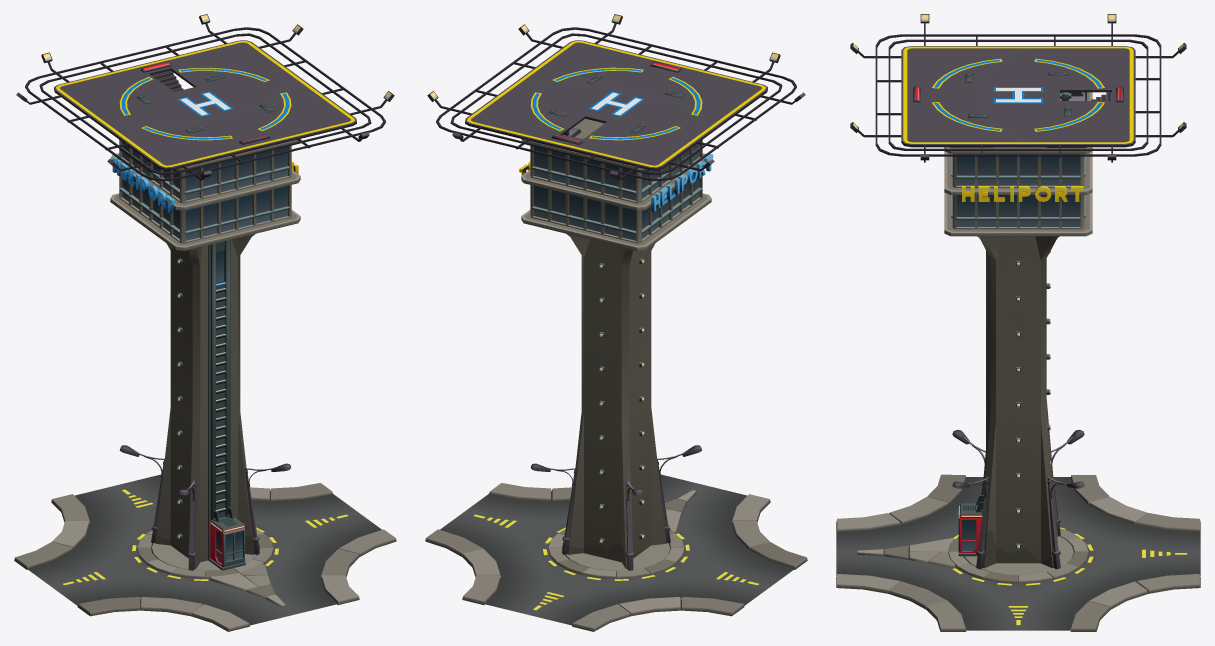
The model's file is Concrete_Tower_2A.fbx.
The picture shows the model from 3 angles, left to right: view 1: azimuth 30°, elevation 25°; view 2: azimuth 150°, elevation 25°; view 3: azimuth 270°, elevation 25°; orthographic projection. The views are drawn at different scales.
Visible parts, largest first — view 1: Concrete_Tower_2A, Concrete_Tower_2A_Elevator, Concrete_Tower_2A_Text; view 2: Concrete_Tower_2A, Concrete_Tower_2A_Text; view 3: Concrete_Tower_2A, Concrete_Tower_2A_Elevator, Concrete_Tower_2A_Text.
Part boxes in pixels (x1,y1,x2,y2): Concrete_Tower_2A: [14, 14, 396, 631]; Concrete_Tower_2A_Elevator: [209, 506, 245, 570]; Concrete_Tower_2A_Text: [112, 157, 298, 213]; Concrete_Tower_2A: [425, 14, 807, 631]; Concrete_Tower_2A_Text: [519, 153, 713, 211]; Concrete_Tower_2A: [836, 14, 1200, 631]; Concrete_Tower_2A_Elevator: [958, 495, 983, 556]; Concrete_Tower_2A_Text: [962, 186, 1083, 201].
Bounding box in the file's own units: 2800 × 4097 × 2800.
